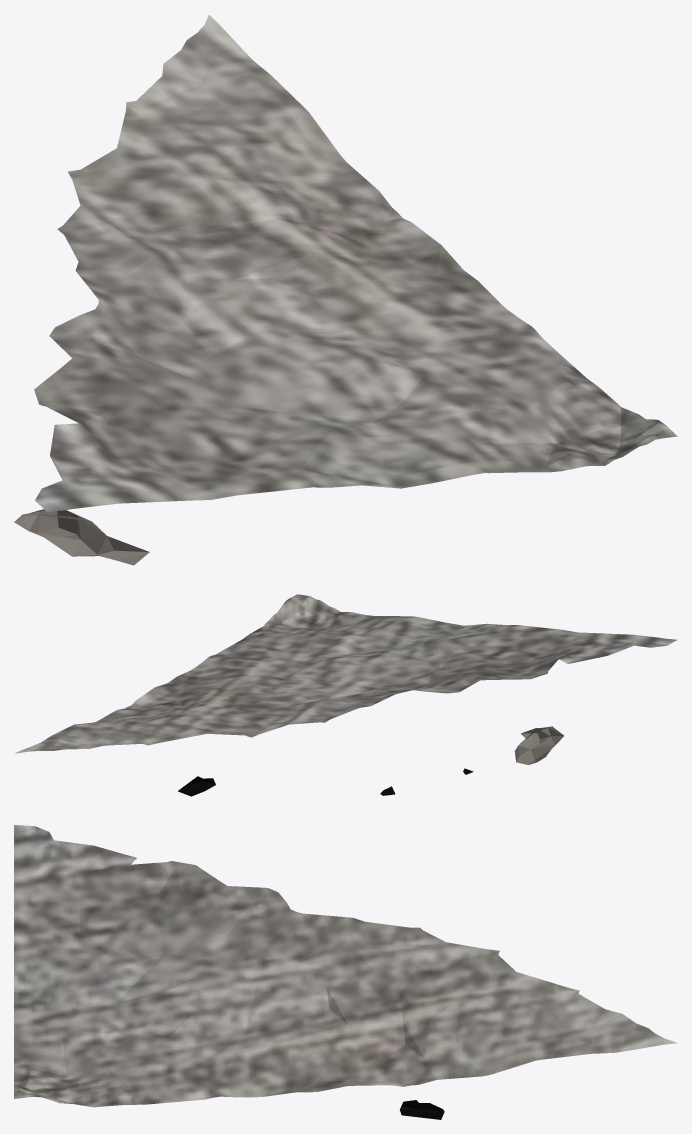
3 views of the same model, one above another, from view 1: azimuth 30°, elevation 25°; view 2: azimuth 150°, elevation 25°; view 3: azimuth 270°, elevation 25° (orthographic). The views are drawn at different scales.
Size of the model in its own units: 0.8097 by 0.2013 by 1.04.
Materials: 1 (1 with a texture image).
